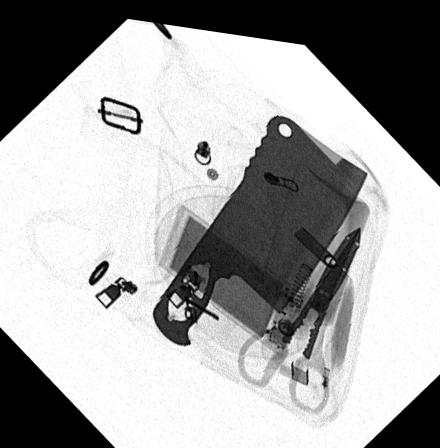Knife: (151, 103, 369, 338)
Powerbank: (157, 192, 312, 346)
Scissors: (238, 208, 363, 407)
